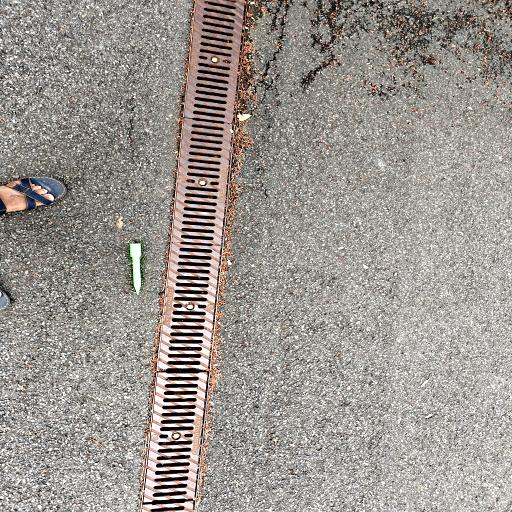Probe-Detection: (130, 243, 141, 294)
